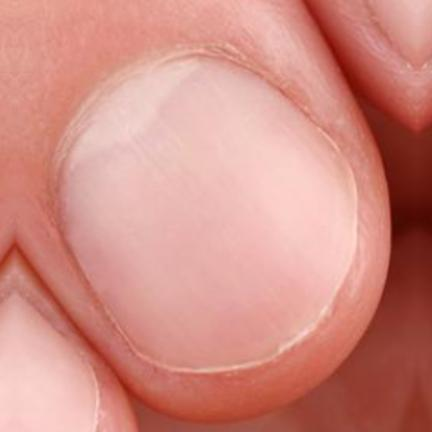Nail: (55, 51, 360, 370)
